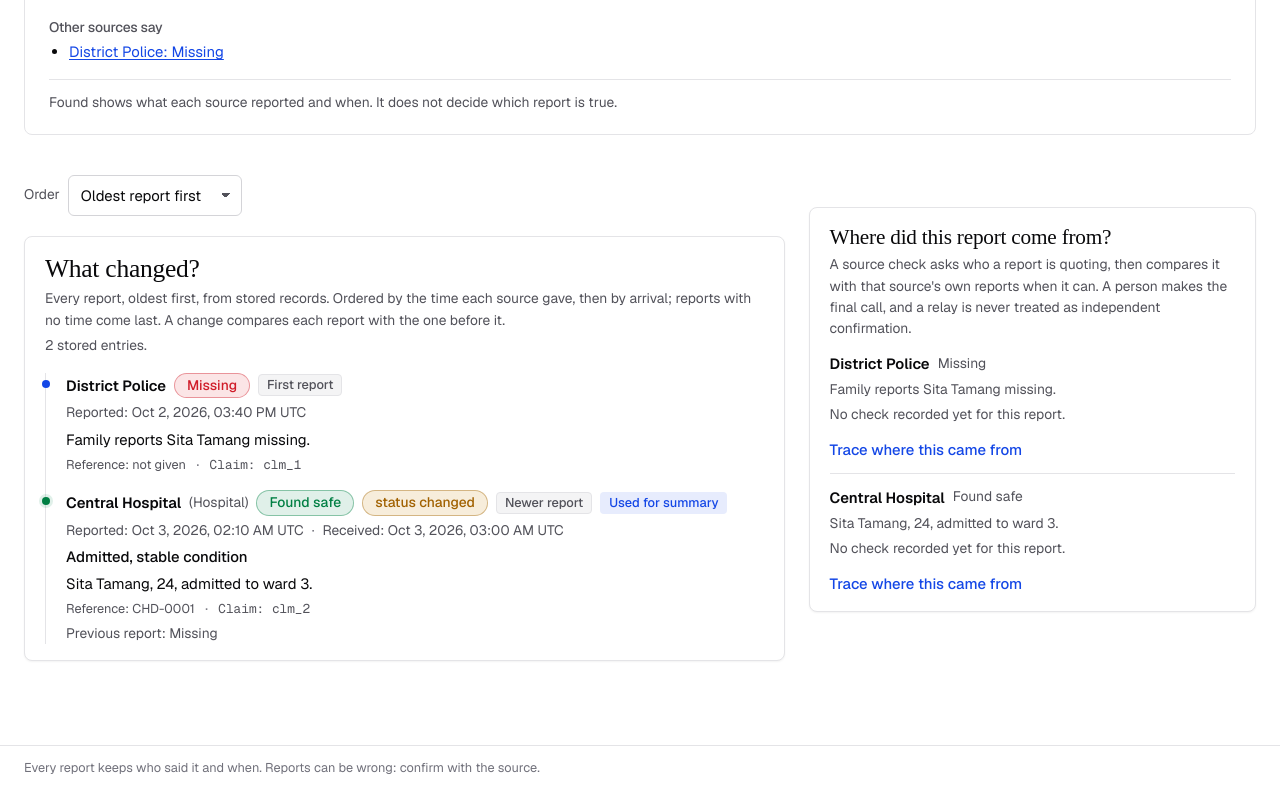
Test case: person page › lets reviewers trace where a report came from
The width and height of the screenshot is (1280, 790).
(page scrolled)
Click the 2nd button "Trace where this came from".
click(926, 584)  # box [830,574,1022,594]
(page scrolled)
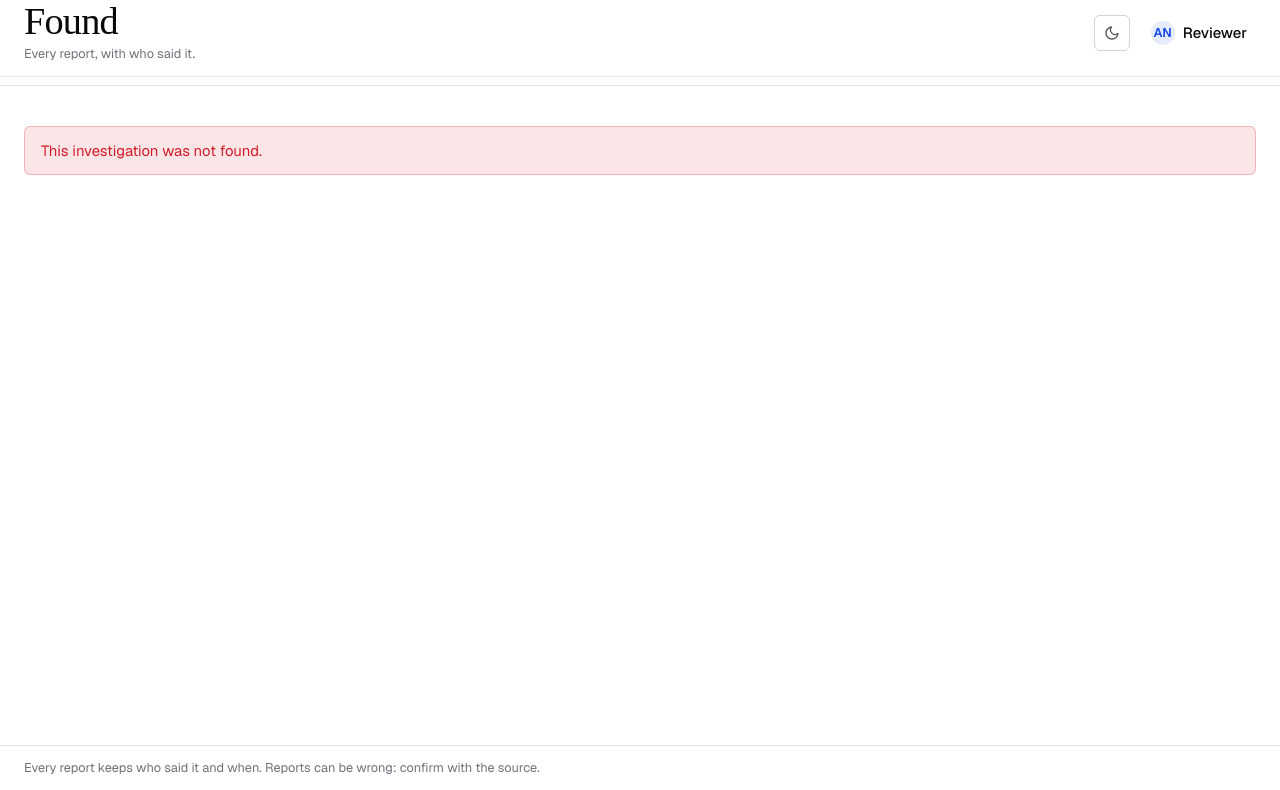
Expected: the text "This investigation was not found." is shown, [41,141,262,160]
